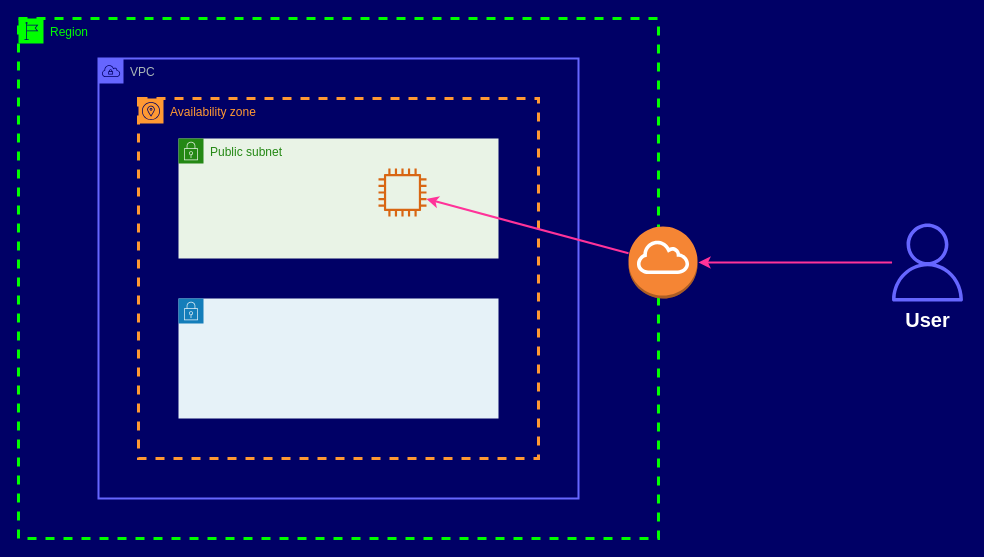
This 984x557 diagram has some shape labels left out. The centre of each missing label's shape, as x and y in pixels:
"EC2" belongs at (402,192).
"Internet Gateway" belongs at (662,262).
"Private subnet" belongs at (338,358).
